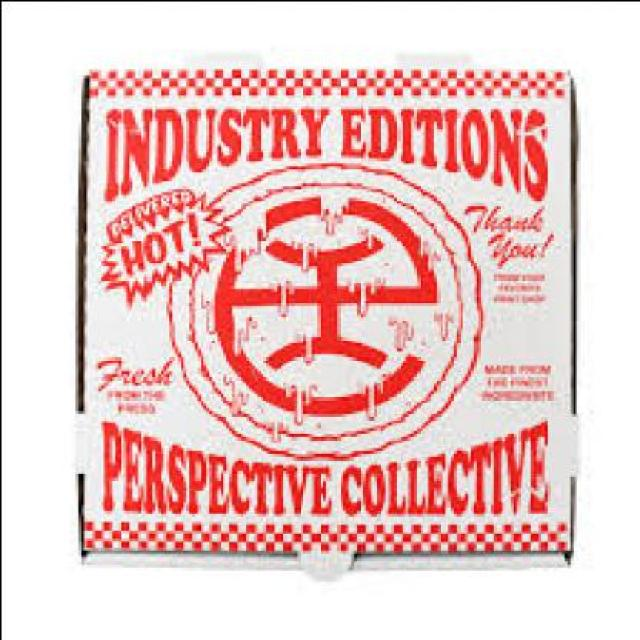CARDBOARD: (65, 57, 578, 569)
